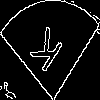K: (25, 25, 64, 81)
